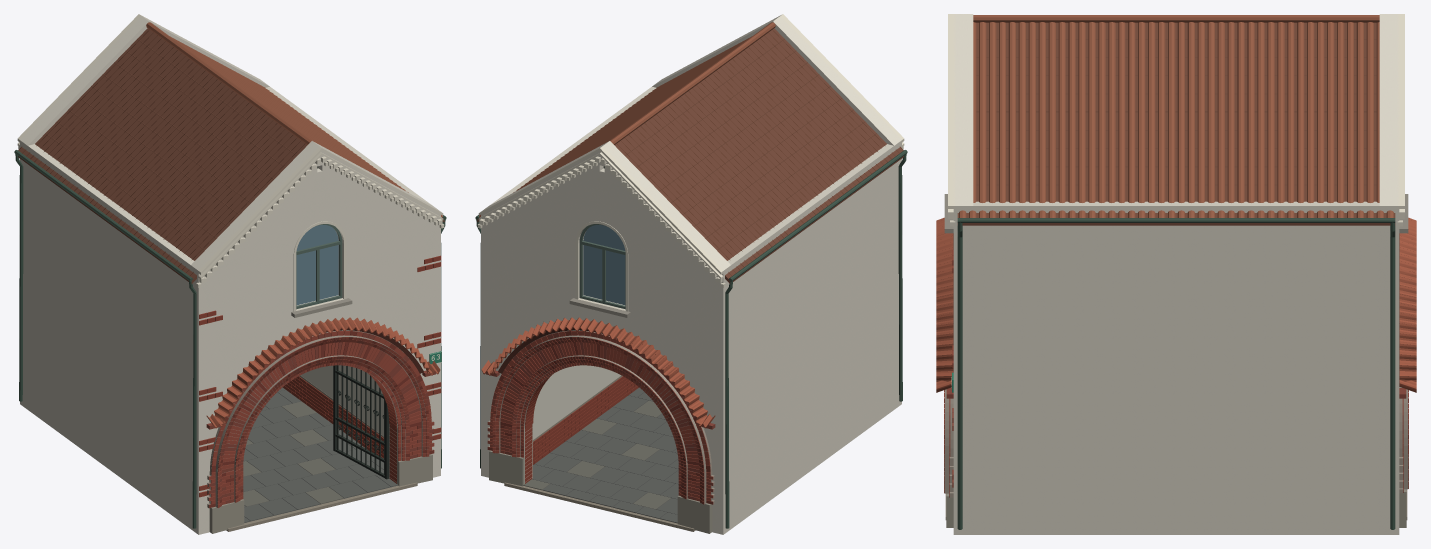
File: xuhui-li-garden-gaoan-gatehouse-lod.glb
3 views of the same model, side by side, from view 1: azimuth 30°, elevation 25°; view 2: azimuth 150°, elevation 25°; view 3: azimuth 270°, elevation 25° (orthographic). The views are drawn at different scales.
Visible parts, largest first — view 1: 励家花园高安路街门与双面砖券过道; view 2: 励家花园高安路街门与双面砖券过道; view 3: 励家花园高安路街门与双面砖券过道.
Part boxes in pixels (x1,y1,x2,y2): 励家花园高安路街门与双面砖券过道: (14, 14, 446, 534); 励家花园高安路街门与双面砖券过道: (475, 14, 907, 534); 励家花园高安路街门与双面砖券过道: (936, 14, 1416, 534).
Bounding box in the file's own units: 5.11 × 6.85 × 6.64.
26 materials, 1 textured.
